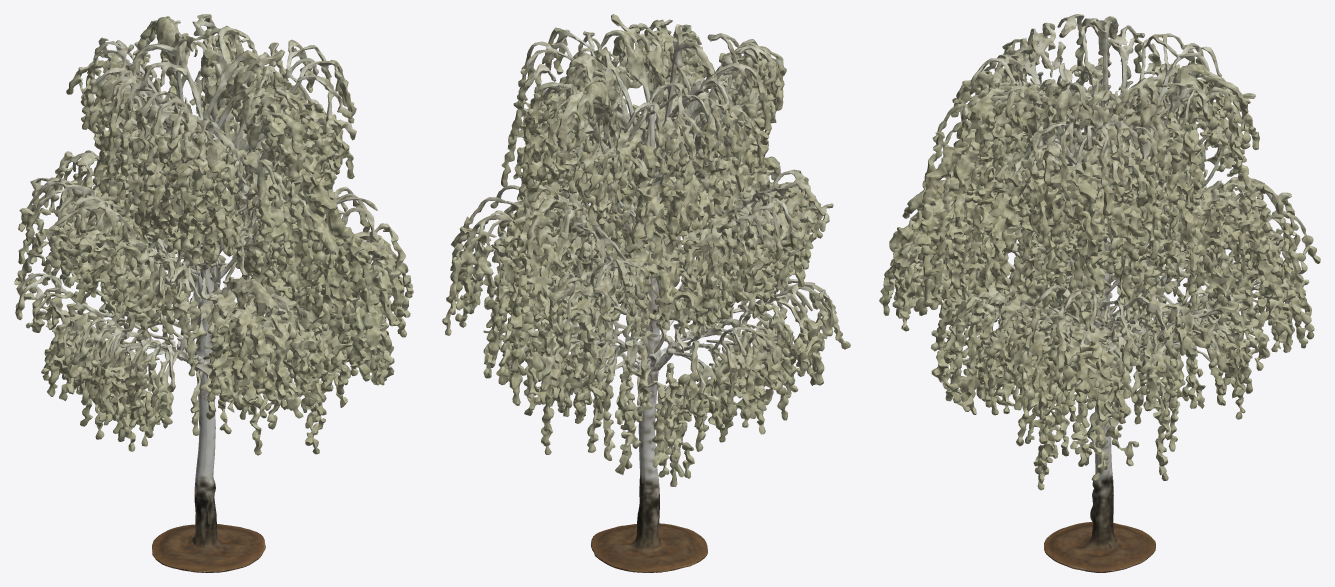
The model's file is task-4897081.glb.
3 views of the same model, side by side, from view 1: azimuth 30°, elevation 25°; view 2: azimuth 150°, elevation 25°; view 3: azimuth 270°, elevation 25° (orthographic). The views are drawn at different scales.
Visible parts, largest first — view 1: world; view 2: world; view 3: world.
Part boxes in pixels (x1,y1,x2,y2): world: [14, 14, 413, 572]; world: [442, 14, 850, 572]; world: [879, 14, 1320, 572].
Size of the model in its own units: 8.5 by 12 by 9.33.
1 material, 1 textured.
